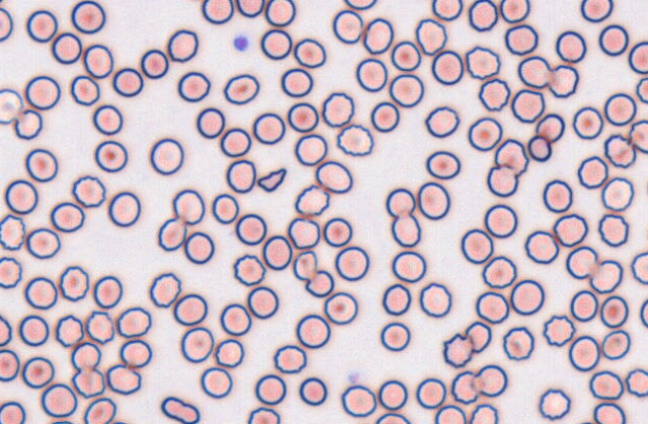PLT: (233, 35, 250, 53), (347, 371, 362, 385)
RBC: (40, 382, 77, 417), (149, 137, 183, 175), (494, 138, 528, 175), (180, 326, 214, 363), (417, 181, 450, 219), (295, 313, 330, 348), (334, 246, 369, 281), (510, 88, 545, 123), (467, 116, 502, 151), (25, 75, 60, 110), (510, 279, 544, 315), (336, 123, 373, 156), (315, 160, 352, 193), (553, 213, 588, 247), (524, 230, 559, 264), (4, 179, 38, 214), (465, 45, 500, 79), (460, 228, 493, 264), (340, 384, 376, 417), (108, 191, 141, 227), (415, 18, 447, 55), (589, 259, 623, 293), (389, 73, 423, 107), (71, 0, 105, 34), (481, 255, 516, 288), (484, 203, 517, 238), (172, 189, 205, 224), (71, 174, 106, 207), (321, 92, 354, 127), (601, 176, 634, 211), (424, 105, 459, 138), (294, 184, 330, 216), (568, 335, 600, 371), (149, 272, 181, 308), (431, 49, 463, 85), (362, 17, 393, 54), (565, 245, 598, 279), (517, 55, 551, 88), (323, 291, 357, 324), (173, 293, 207, 326), (25, 148, 58, 182), (106, 363, 141, 395), (160, 395, 200, 423), (391, 250, 426, 282), (419, 282, 451, 317), (116, 306, 151, 338), (58, 265, 89, 301), (223, 73, 259, 104), (474, 364, 507, 397), (294, 133, 327, 166), (24, 276, 57, 309), (502, 326, 534, 360), (475, 291, 509, 323), (604, 134, 636, 168), (478, 77, 510, 111), (355, 58, 387, 92), (604, 92, 636, 126), (442, 332, 473, 367), (542, 314, 575, 346), (486, 164, 518, 197), (287, 217, 320, 249), (21, 356, 54, 388), (252, 112, 285, 144), (94, 140, 127, 172), (71, 367, 105, 398), (547, 64, 578, 98), (225, 159, 256, 193), (577, 155, 608, 189), (598, 213, 629, 247), (26, 227, 60, 258), (332, 9, 363, 43), (504, 24, 538, 55), (50, 201, 84, 232), (167, 28, 198, 62), (588, 370, 623, 400), (262, 235, 292, 270), (83, 43, 113, 78), (233, 254, 265, 286), (538, 388, 570, 420), (200, 366, 232, 398), (219, 303, 251, 335), (254, 373, 286, 405), (260, 28, 292, 60), (247, 286, 278, 319), (293, 37, 326, 68), (555, 30, 586, 63), (51, 31, 82, 64), (26, 9, 57, 42), (572, 106, 603, 139), (177, 71, 210, 102), (425, 150, 460, 179), (415, 377, 446, 409), (235, 213, 266, 245), (391, 214, 421, 247), (184, 231, 214, 264), (542, 179, 572, 212), (280, 67, 313, 97), (157, 217, 186, 251), (85, 310, 114, 344), (390, 40, 421, 71), (92, 104, 123, 135), (381, 283, 411, 315), (19, 314, 49, 346), (219, 127, 251, 157), (287, 102, 319, 132), (598, 24, 628, 56), (55, 314, 84, 347), (119, 339, 152, 368), (569, 289, 598, 322), (273, 344, 306, 373), (93, 275, 122, 308), (450, 370, 478, 404), (70, 341, 101, 371), (468, 0, 498, 31), (112, 67, 143, 97), (600, 295, 628, 328), (0, 214, 25, 250), (385, 187, 415, 217), (380, 321, 410, 351), (70, 75, 100, 105), (13, 108, 42, 139), (601, 329, 630, 360), (378, 379, 407, 410), (196, 107, 225, 138), (370, 101, 399, 132), (214, 338, 244, 367), (535, 113, 564, 143), (323, 217, 352, 247), (211, 193, 239, 224), (140, 48, 168, 79), (464, 321, 491, 353), (83, 397, 116, 423), (298, 377, 327, 406), (0, 88, 23, 124), (305, 269, 334, 297), (264, 0, 295, 26), (201, 0, 233, 24), (292, 250, 317, 280), (580, 0, 613, 22), (499, 0, 530, 23), (0, 256, 22, 288), (527, 134, 552, 162), (593, 402, 626, 423), (0, 348, 20, 381), (431, 0, 462, 21), (628, 119, 647, 153), (625, 368, 647, 397), (628, 41, 647, 74), (434, 404, 466, 423), (469, 403, 498, 423), (630, 251, 647, 284), (247, 406, 280, 423), (0, 401, 25, 423), (236, 0, 264, 17), (0, 7, 13, 42), (375, 412, 410, 423), (0, 314, 12, 346), (343, 0, 376, 10), (635, 76, 647, 103), (639, 298, 647, 328), (49, 419, 74, 424), (575, 420, 598, 424), (108, 420, 131, 424)
Schistocyte: (258, 167, 287, 194)
